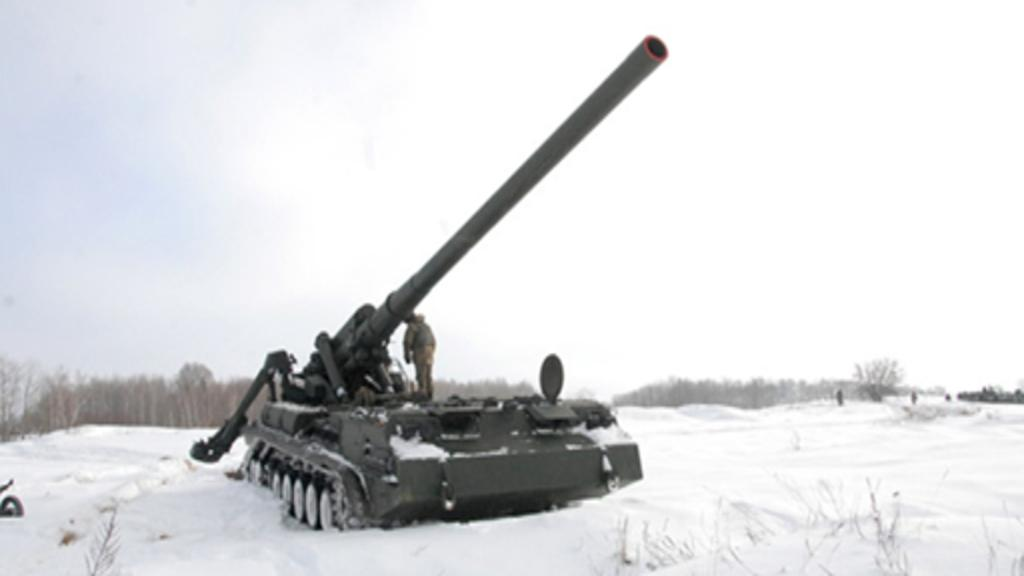ART: (190, 30, 670, 533)
